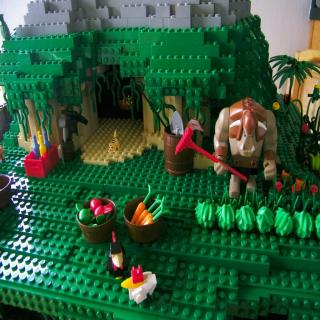Carrot: (130, 182, 157, 222)
